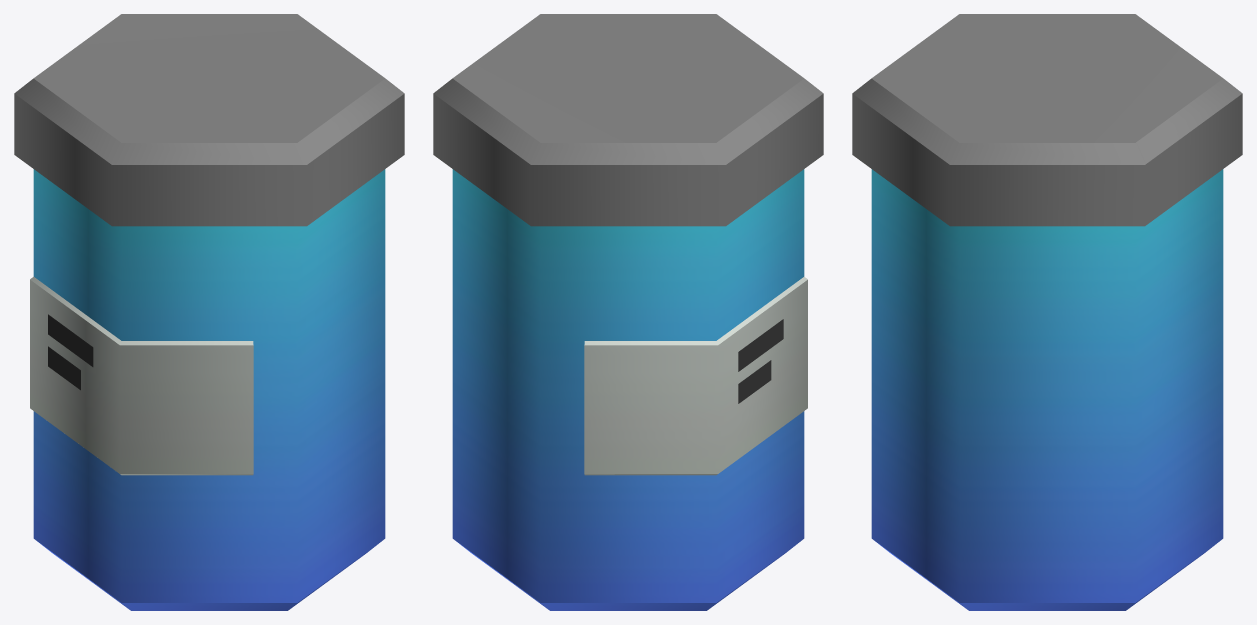
The model's file is Jar_3_K.fbx.
The picture shows the model from 3 angles, left to right: view 1: azimuth 30°, elevation 25°; view 2: azimuth 150°, elevation 25°; view 3: azimuth 270°, elevation 25°; orthographic projection.
Parts seen in each view (by area): view 1: Jar_3_K; view 2: Jar_3_K; view 3: Jar_3_K.
Part boxes in pixels (x1=…): Jar_3_K: x1=14, y1=14, x2=404, y2=610; Jar_3_K: x1=433, y1=14, x2=823, y2=610; Jar_3_K: x1=852, y1=14, x2=1242, y2=610.
Bounding box in the file's own units: 17.99 × 27.9 × 20.77.
